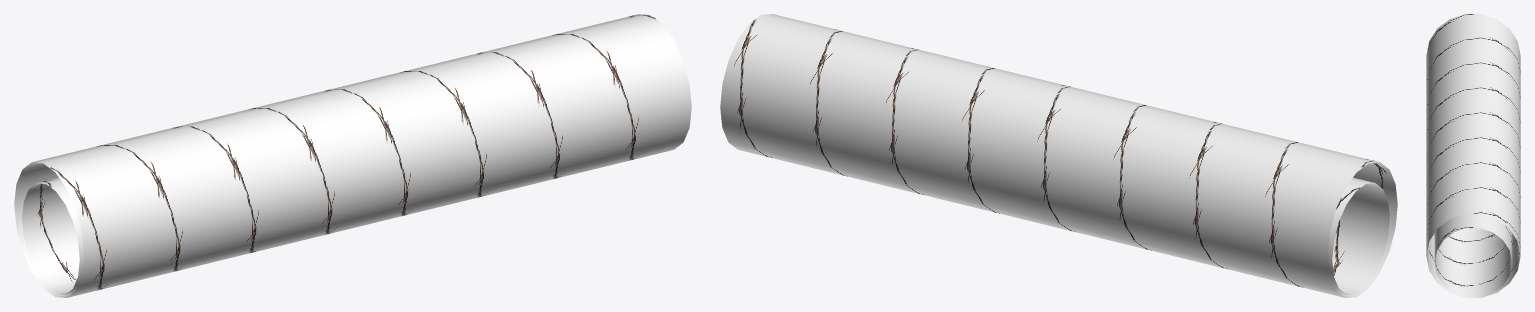
Rendered from barbedWire1.FBX.
The picture shows the model from 3 angles, left to right: view 1: azimuth 30°, elevation 25°; view 2: azimuth 150°, elevation 25°; view 3: azimuth 270°, elevation 25°; orthographic projection. The views are drawn at different scales.
Visible parts, largest first — view 1: barbedWire1; view 2: barbedWire1; view 3: barbedWire1.
Boxes of the visible parts, x1=… form: barbedWire1: x1=14, y1=14, x2=691, y2=297; barbedWire1: x1=720, y1=14, x2=1397, y2=297; barbedWire1: x1=1426, y1=14, x2=1520, y2=297.
Size of the model in its own units: 2.51 by 0.4924 by 0.5.
Materials: 1 (1 with a texture image).
